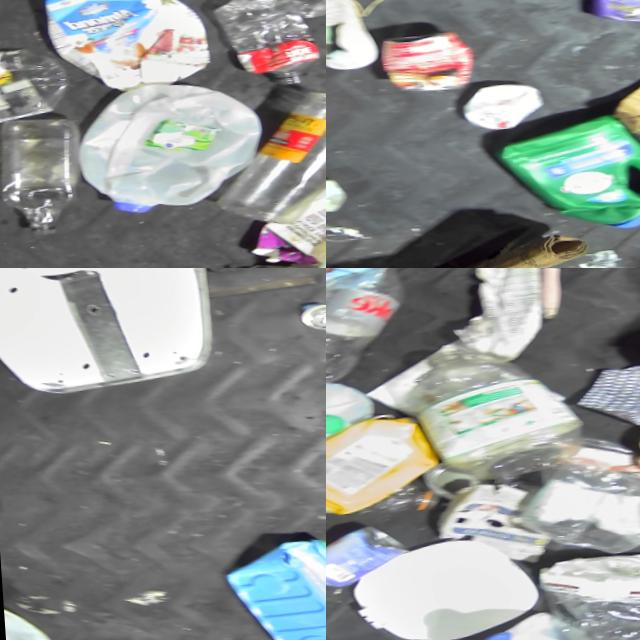can: (360, 22, 465, 106), (326, 524, 401, 592), (284, 277, 326, 352)
milk_jug: (70, 77, 274, 234), (326, 367, 385, 475), (432, 617, 599, 640), (0, 592, 67, 640)
non_white_jug: (478, 117, 640, 251), (204, 532, 326, 640), (326, 410, 428, 526), (575, 0, 640, 37)
plastic_bottle: (196, 0, 325, 107), (326, 268, 408, 388), (0, 40, 79, 148)
